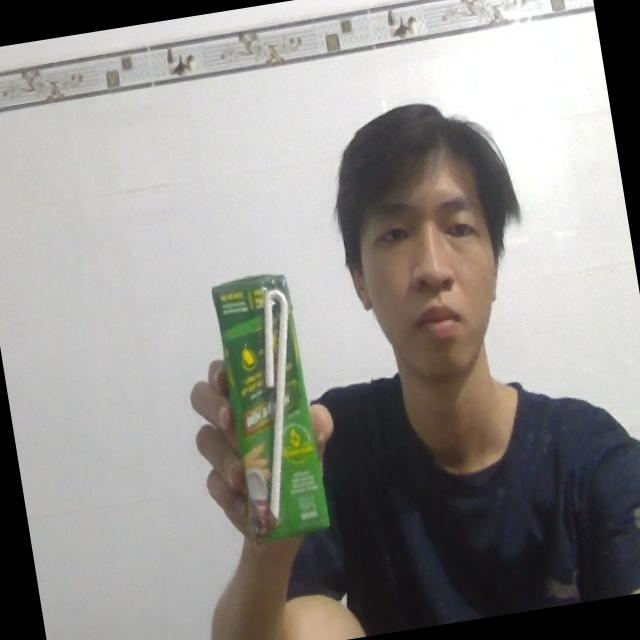sua milo: (202, 260, 342, 557)
